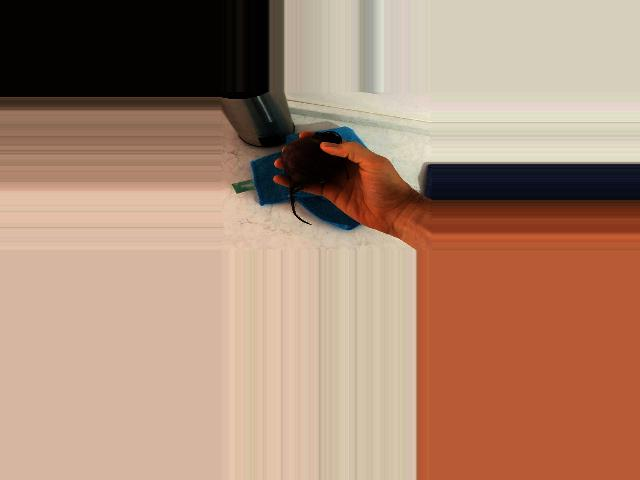beet: (281, 131, 347, 225)
